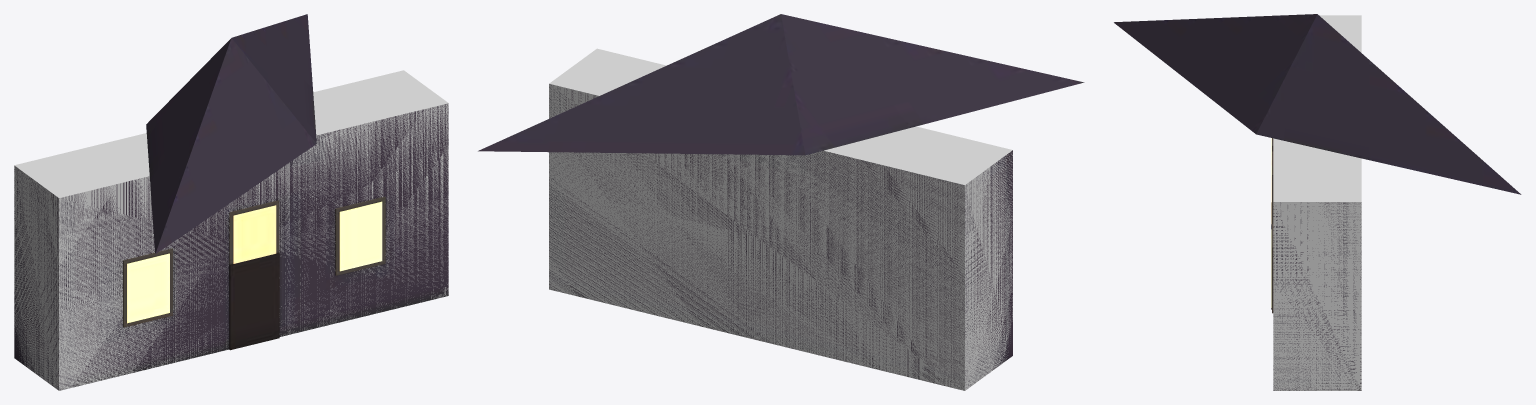
File: ghost_house.glb
3 views of the same model, side by side, from view 1: azimuth 30°, elevation 25°; view 2: azimuth 150°, elevation 25°; view 3: azimuth 270°, elevation 25° (orthographic). The views are drawn at different scales.
Visible parts, largest first — view 1: GhostHouse, COL_Facade; view 2: COL_Facade, GhostHouse; view 3: GhostHouse, COL_Facade.
Boxes of the visible parts, bbox=[...] form: GhostHouse: bbox=[14, 14, 448, 390]; COL_Facade: bbox=[14, 70, 448, 390]; COL_Facade: bbox=[549, 48, 1012, 390]; GhostHouse: bbox=[478, 14, 1084, 390]; GhostHouse: bbox=[1114, 14, 1521, 390]; COL_Facade: bbox=[1273, 15, 1361, 390].
Size of the model in its own units: 11 by 7.8 by 10.18.
Materials: 6 (6 with a texture image).
